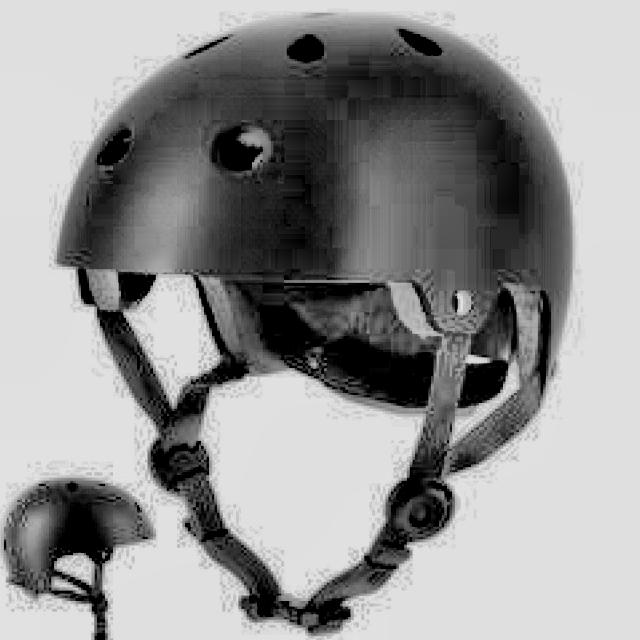Helmet: (56, 4, 582, 636)
